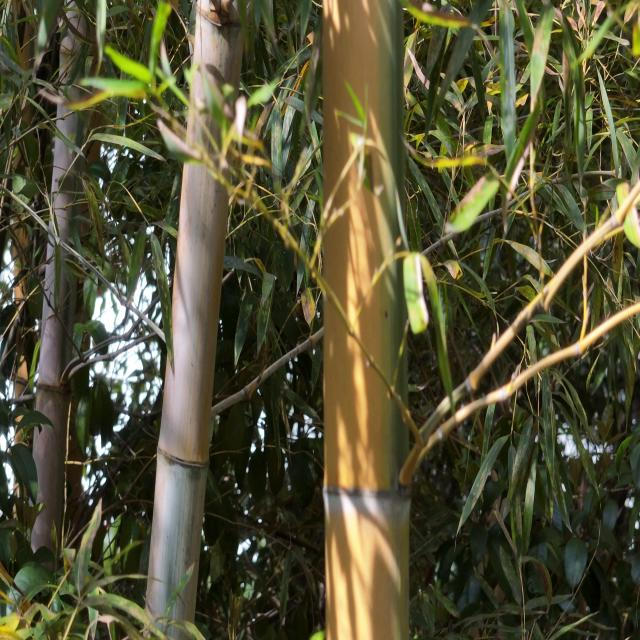Bamboo-shoots: (322, 0, 412, 640)
